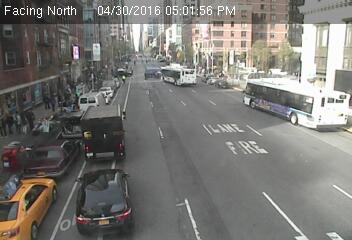pos: (7, 109, 26, 134), (39, 91, 54, 112)
